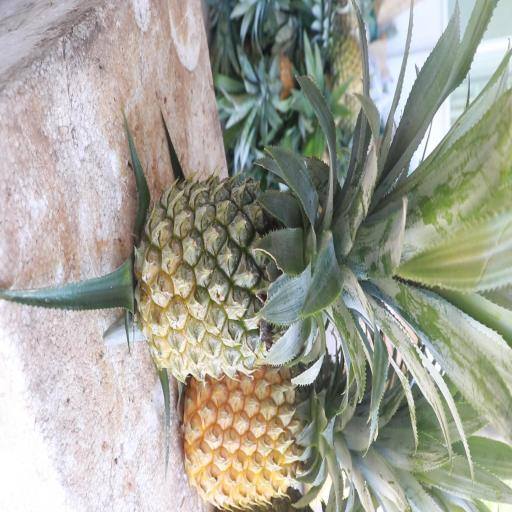------------------------------: (142, 176, 348, 374)
Pineapple - v8 v1: (188, 369, 340, 503)
